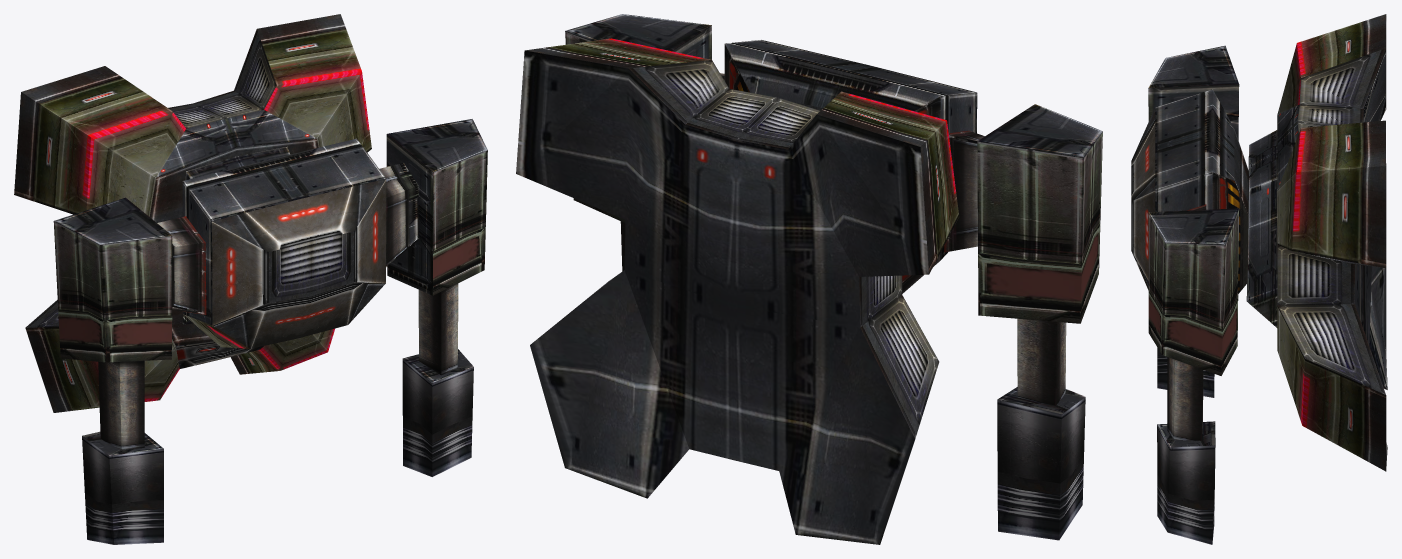
Rendered from turret-12.obj.
3 renders of one model, left to right at view 1: azimuth 30°, elevation 25°; view 2: azimuth 150°, elevation 25°; view 3: azimuth 270°, elevation 25°, orthographic. The views are drawn at different scales.
Parts seen in each view (by area): view 1: body, head, gun_02, gun_01; view 2: body, gun_02, head, gun_01; view 3: body, gun_01, head, gun_02.
Boxes of the visible parts, x1,y1,x2,y2 form: body: (14, 14, 371, 412); head: (157, 138, 418, 348); gun_02: (53, 197, 172, 544); gun_01: (386, 119, 487, 476); body: (516, 38, 959, 544); gun_02: (977, 104, 1102, 540); head: (720, 40, 984, 293); gun_01: (565, 14, 711, 271); body: (1246, 14, 1387, 471); gun_01: (1148, 208, 1239, 544); head: (1131, 89, 1248, 293); gun_02: (1148, 45, 1239, 397).
Size of the model in its own units: 4.46 by 3.94 by 2.42.
Materials: 1 (1 with a texture image).
